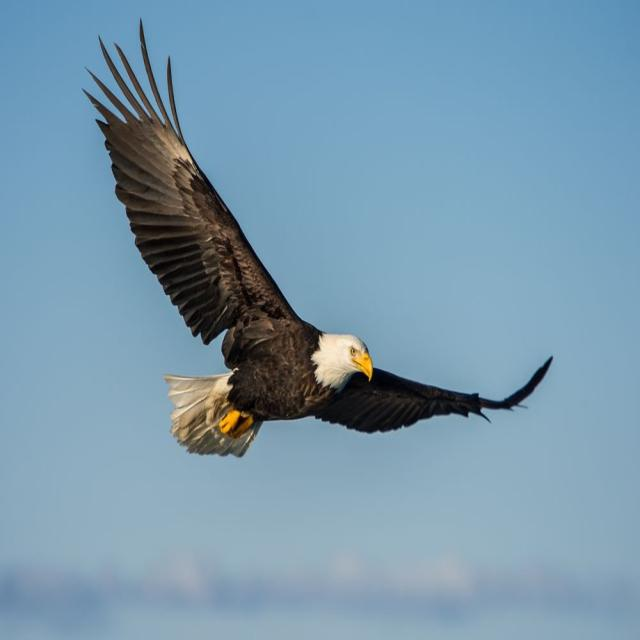Eagle: (83, 9, 544, 463)
